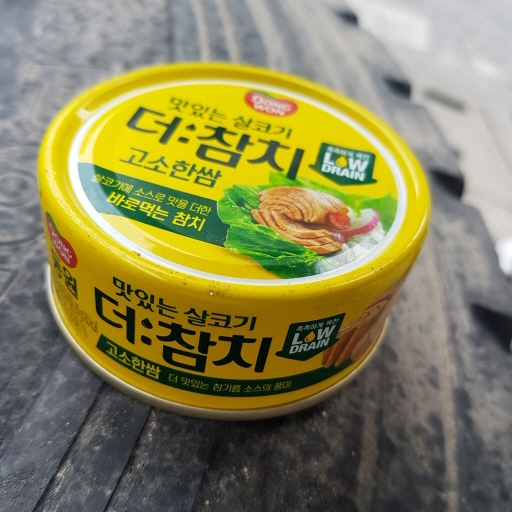Metal_1: (33, 60, 432, 423)
